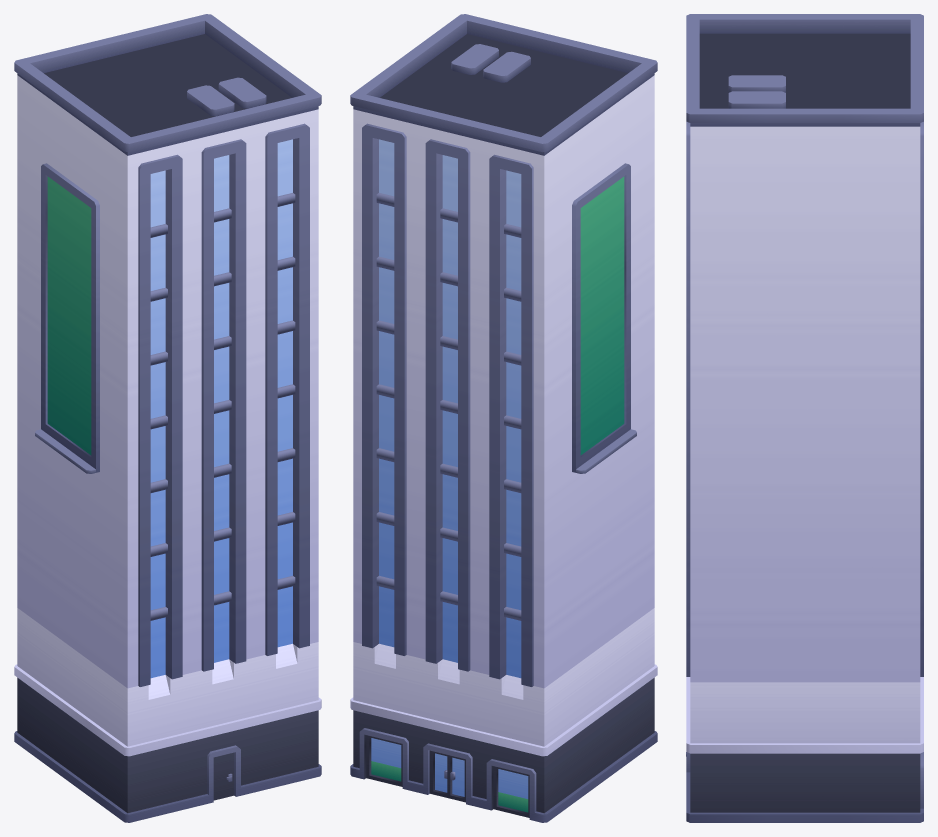
File: neon_tower_e.glb
3 views of the same model, side by side, from view 1: azimuth 30°, elevation 25°; view 2: azimuth 150°, elevation 25°; view 3: azimuth 270°, elevation 25° (orthographic). The views are drawn at different scales.
Parts seen in each view (by area): view 1: building-skyscraper-e; view 2: building-skyscraper-e; view 3: building-skyscraper-e.
Part boxes in pixels (<box>): building-skyscraper-e: <box>14,14,321,822</box>; building-skyscraper-e: <box>350,14,657,822</box>; building-skyscraper-e: <box>686,14,923,822</box>.
Size of the model in its own units: 15.2 by 47.89 by 14.58.
Materials: 1 (1 with a texture image).
